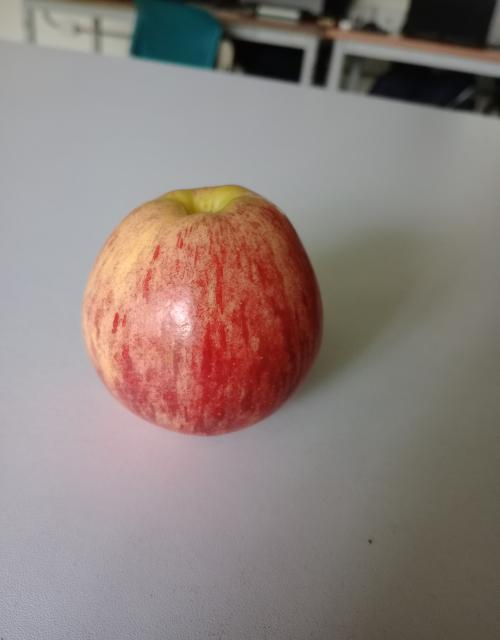Manzana: (85, 160, 341, 497)
